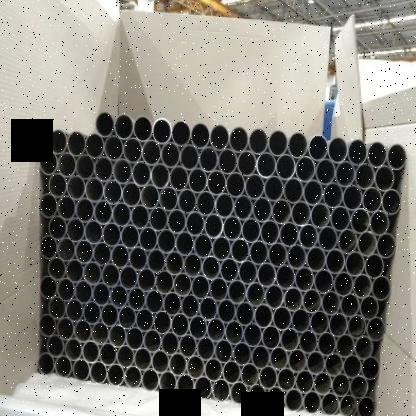pipe: (302, 179, 324, 205), (287, 131, 308, 158), (103, 134, 124, 161), (275, 153, 296, 180), (294, 155, 315, 182), (315, 158, 336, 185), (354, 162, 375, 189), (322, 181, 343, 208), (94, 110, 115, 137), (347, 137, 367, 165), (374, 164, 394, 192), (209, 123, 229, 151), (327, 136, 348, 162), (366, 141, 387, 167), (387, 143, 408, 169), (187, 167, 208, 193), (113, 113, 134, 139), (248, 127, 268, 154), (84, 132, 104, 159), (308, 134, 328, 161), (122, 136, 142, 163), (141, 139, 161, 166), (160, 141, 180, 168), (75, 153, 95, 180), (335, 160, 355, 187), (264, 175, 284, 202), (362, 186, 382, 213), (252, 196, 272, 223), (290, 200, 310, 227), (370, 209, 390, 236), (345, 250, 365, 277), (132, 115, 152, 142), (190, 122, 210, 149), (48, 128, 68, 154), (268, 129, 288, 155), (180, 144, 200, 170), (198, 146, 218, 172), (236, 150, 256, 176), (112, 158, 132, 184), (131, 160, 151, 186), (169, 165, 189, 191), (66, 174, 86, 200), (284, 177, 304, 203), (342, 184, 362, 210), (271, 198, 291, 224), (330, 205, 350, 231), (350, 207, 370, 233), (260, 219, 280, 245), (279, 221, 299, 247), (298, 223, 318, 249), (318, 225, 338, 251), (337, 228, 357, 254), (356, 230, 376, 256), (376, 232, 396, 258), (306, 246, 326, 272), (325, 248, 345, 274), (364, 253, 384, 279), (238, 259, 258, 285), (314, 268, 334, 294), (334, 271, 354, 297), (320, 290, 340, 316), (359, 294, 379, 320), (328, 311, 348, 337), (302, 389, 322, 415), (152, 118, 172, 144), (171, 120, 191, 146), (229, 126, 249, 152), (256, 151, 275, 178), (94, 155, 113, 182), (215, 192, 234, 219), (204, 212, 223, 239), (223, 214, 242, 241), (150, 163, 170, 188), (206, 170, 226, 195), (84, 177, 104, 202), (140, 184, 160, 209), (158, 186, 178, 211), (75, 197, 95, 222), (310, 203, 330, 228), (74, 239, 94, 264), (92, 241, 112, 266), (286, 244, 306, 269), (146, 248, 166, 273), (294, 266, 314, 291), (264, 284, 284, 309), (366, 316, 386, 341), (178, 333, 198, 358), (276, 367, 296, 392), (226, 171, 245, 197), (245, 173, 264, 199), (196, 190, 215, 216), (39, 193, 58, 219), (120, 223, 139, 249), (212, 235, 231, 261), (230, 237, 249, 263), (249, 239, 268, 265), (268, 241, 287, 267), (155, 269, 174, 295), (302, 288, 321, 314), (310, 309, 329, 335), (243, 322, 262, 348), (269, 345, 288, 371), (320, 390, 339, 416), (58, 151, 76, 178), (122, 180, 140, 207), (178, 187, 196, 214), (382, 188, 400, 215), (234, 194, 252, 221), (272, 306, 292, 330), (224, 320, 244, 344), (298, 329, 318, 353), (324, 352, 344, 376), (342, 354, 362, 378), (284, 388, 304, 412), (67, 130, 86, 155), (39, 150, 58, 175), (48, 172, 67, 197), (103, 179, 122, 204), (57, 195, 76, 220), (112, 202, 131, 227), (130, 204, 149, 229), (148, 206, 167, 231), (167, 208, 186, 233), (185, 211, 204, 236), (193, 233, 212, 258), (57, 237, 76, 262), (110, 244, 129, 269), (128, 246, 147, 271), (165, 250, 184, 275), (183, 253, 202, 278), (201, 255, 220, 280), (83, 260, 102, 285), (257, 262, 276, 287), (101, 263, 120, 288), (276, 264, 295, 289), (119, 265, 138, 290), (137, 267, 156, 292), (173, 272, 192, 297), (353, 273, 372, 298), (191, 274, 210, 299), (227, 279, 246, 304), (127, 286, 146, 311), (162, 291, 181, 316), (180, 293, 199, 318), (235, 301, 254, 326), (291, 308, 310, 333), (171, 312, 190, 337), (347, 314, 366, 339), (206, 317, 225, 342), (143, 328, 162, 353), (317, 331, 336, 356), (354, 335, 373, 360), (214, 338, 233, 363), (233, 341, 252, 366), (251, 344, 270, 369), (186, 354, 205, 379), (54, 354, 73, 379), (361, 355, 380, 380), (204, 357, 223, 382), (222, 359, 241, 384), (240, 362, 259, 387), (295, 369, 314, 394), (349, 374, 368, 399), (230, 380, 249, 405), (248, 383, 267, 408), (218, 148, 236, 174), (242, 217, 260, 243), (246, 281, 264, 307), (262, 324, 280, 350), (48, 215, 67, 239), (66, 217, 85, 241), (84, 220, 103, 244), (102, 222, 121, 246), (139, 227, 158, 251), (157, 229, 176, 253), (175, 231, 194, 255), (65, 258, 84, 282), (209, 277, 228, 301), (74, 280, 93, 304), (145, 289, 164, 313), (340, 293, 359, 317), (216, 299, 235, 323), (135, 308, 154, 332), (188, 315, 207, 339), (331, 373, 350, 397), (212, 378, 231, 402), (266, 385, 285, 409), (94, 199, 112, 224), (40, 235, 58, 260), (48, 256, 66, 281), (220, 257, 238, 282), (372, 275, 390, 300), (110, 284, 128, 309), (284, 286, 302, 311), (199, 296, 217, 321), (83, 300, 101, 325), (100, 302, 118, 327), (254, 303, 272, 328), (74, 318, 92, 343), (108, 323, 126, 348), (161, 331, 179, 356), (336, 333, 354, 358), (82, 339, 100, 364), (134, 346, 152, 371), (288, 348, 306, 373), (151, 349, 169, 374), (306, 350, 324, 375), (168, 351, 186, 376), (124, 364, 142, 389), (259, 365, 277, 390), (141, 367, 159, 392), (314, 371, 332, 396), (176, 372, 194, 397), (194, 375, 212, 400), (339, 393, 358, 416), (40, 275, 58, 299), (57, 277, 75, 301), (92, 282, 110, 306), (48, 296, 66, 320), (66, 298, 84, 322), (118, 305, 136, 329), (153, 310, 171, 334), (56, 316, 74, 340), (91, 321, 109, 345), (126, 326, 144, 350), (280, 327, 298, 351), (46, 334, 64, 358), (197, 336, 215, 360), (99, 342, 117, 366), (116, 344, 134, 368), (72, 358, 90, 382), (89, 360, 107, 384), (158, 370, 176, 394), (107, 362, 124, 387), (356, 395, 376, 416), (38, 314, 56, 337), (64, 337, 82, 360), (38, 352, 54, 375)
